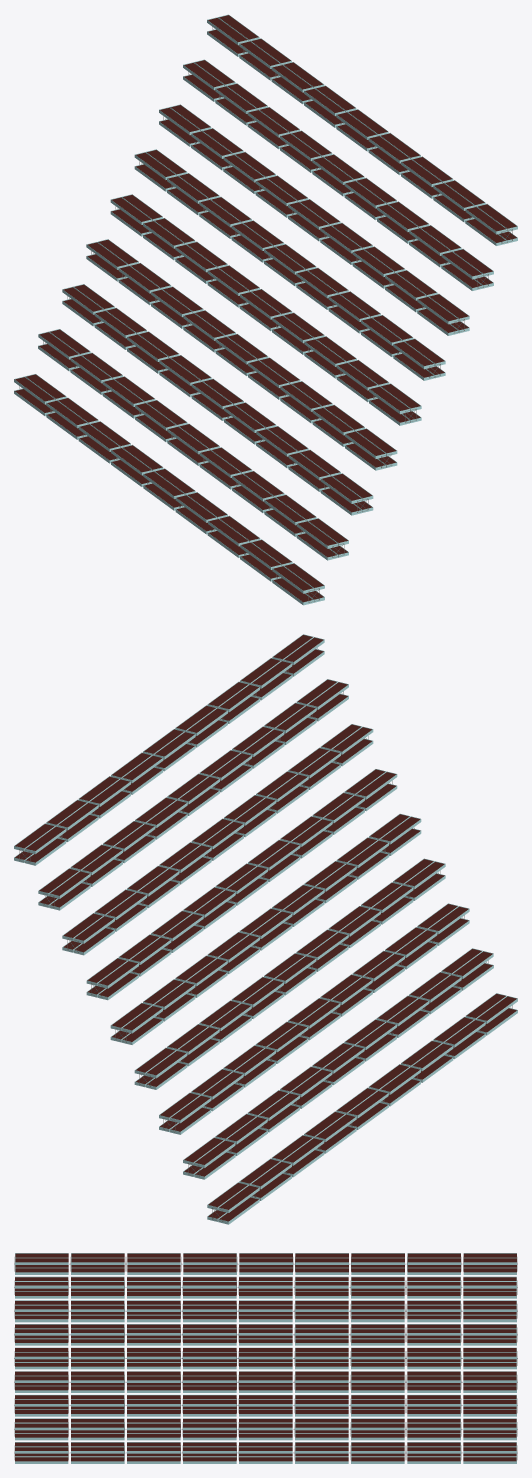
File: Atrium_Planter_Set.glb
3 views of the same model, one above another, from view 1: azimuth 30°, elevation 25°; view 2: azimuth 150°, elevation 25°; view 3: azimuth 270°, elevation 25° (orthographic). The views are drawn at different scales.
Parts seen in each view (by area): view 1: Atrium_Planters_AllTogether; view 2: Atrium_Planters_AllTogether; view 3: Atrium_Planters_AllTogether.
Boxes of the visible parts, x1,y1,x2,y2 form: Atrium_Planters_AllTogether: [14, 14, 517, 605]; Atrium_Planters_AllTogether: [14, 634, 517, 1224]; Atrium_Planters_AllTogether: [14, 1253, 517, 1463].
Size of the model in its own units: 18.4 by 26.75 by 43.11.
